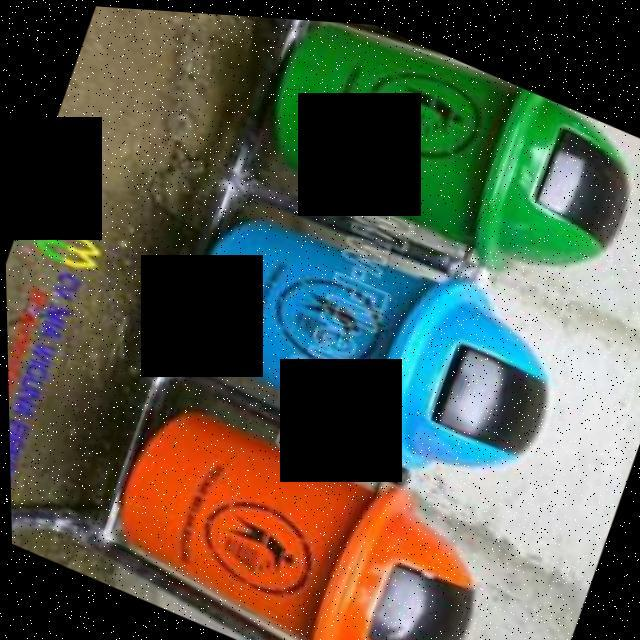bin: (148, 161, 593, 522), (222, 12, 640, 319), (70, 367, 510, 640)
